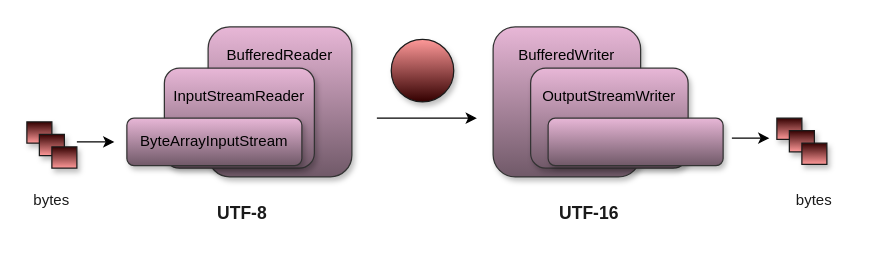
The diagram is 869 pixels wide and 256 high, and some of its shapes have lost their labels. Each missing label, with the centre of its shape:
ByteArrayOutputStream: the point at 636,143
char: the point at 423,72
